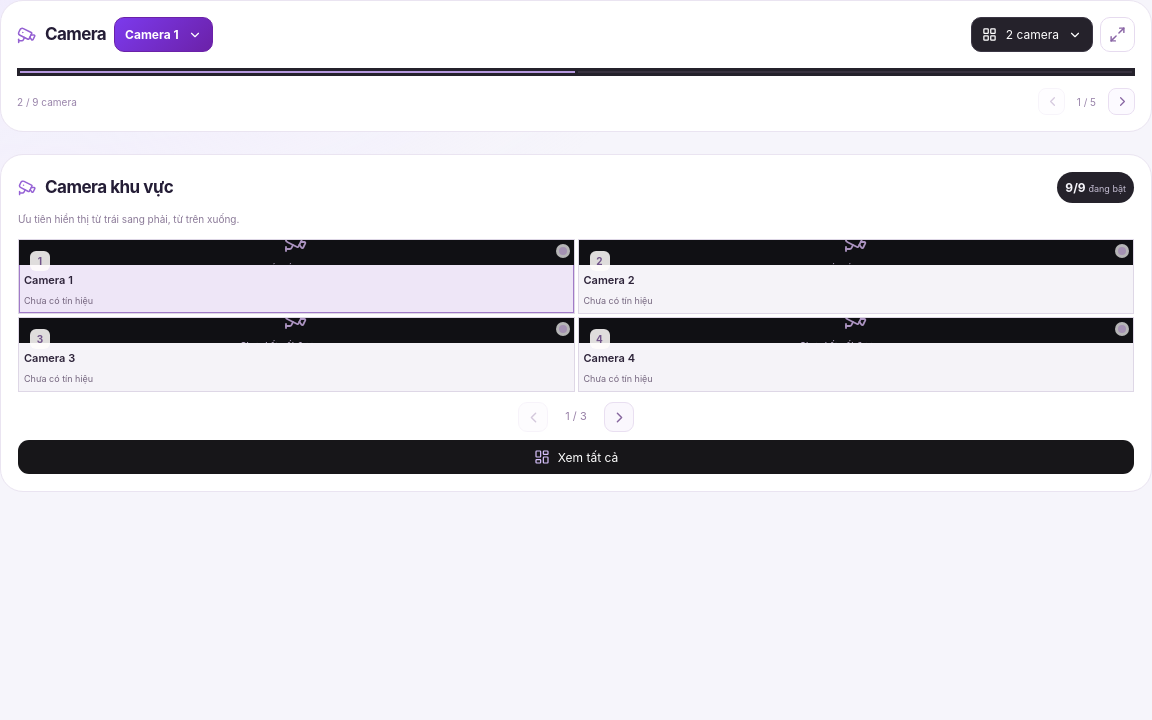
Test: falls back to an accessible expanded view when native fullscreen is unavailable
Click the button named "Phóng to lưới camera": point(1118, 34) 1100,17 -> 1135,52
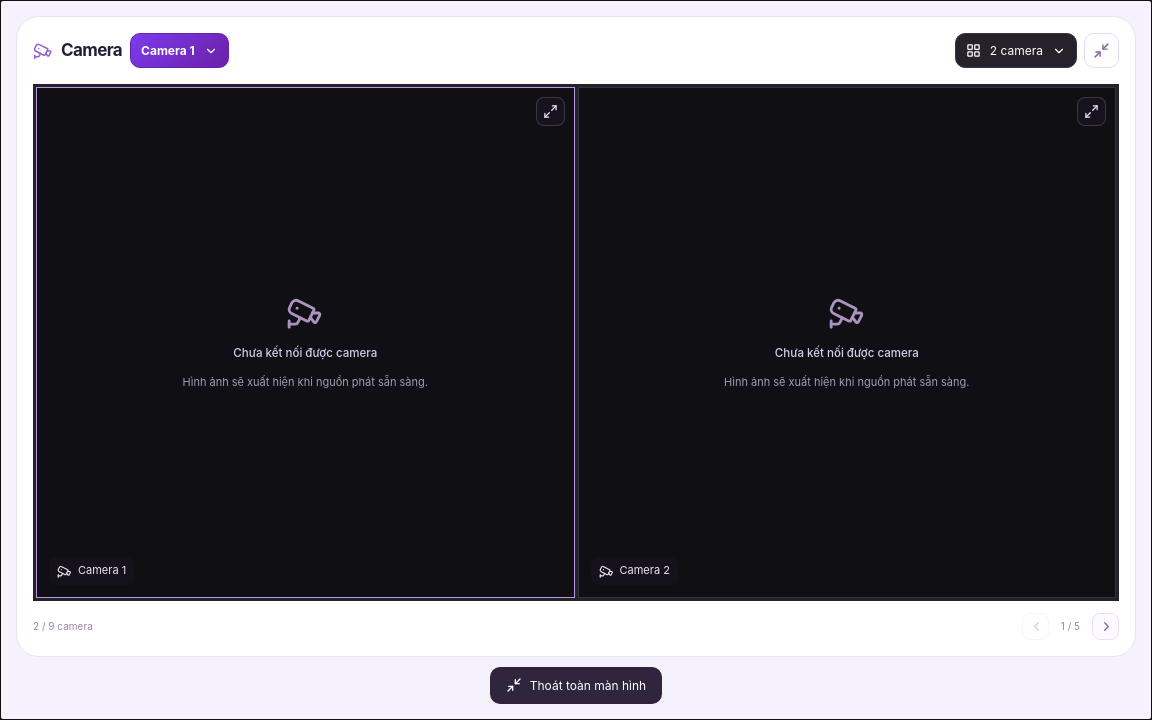
Expected: the dialog named "Camera toàn màn hình" is shown
Click the button with aria-label "Đóng camera toàn màn hình": point(576, 685) 490,667 -> 662,704
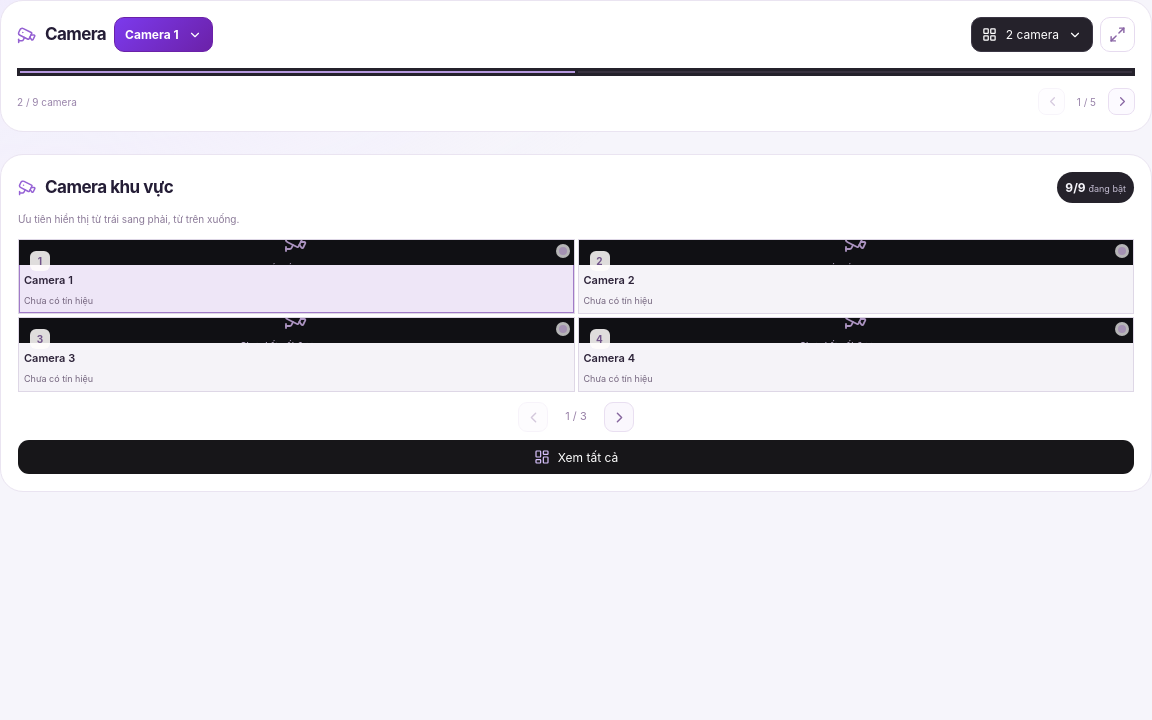
Expected: the element with id "camera-monitor" is shown, 0,0 -> 1151,132
Expected: the dialog is gone
